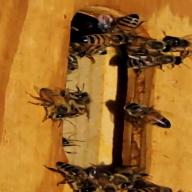Bee: (25, 86, 84, 128), (117, 98, 181, 129), (98, 10, 152, 38), (83, 32, 124, 51)
